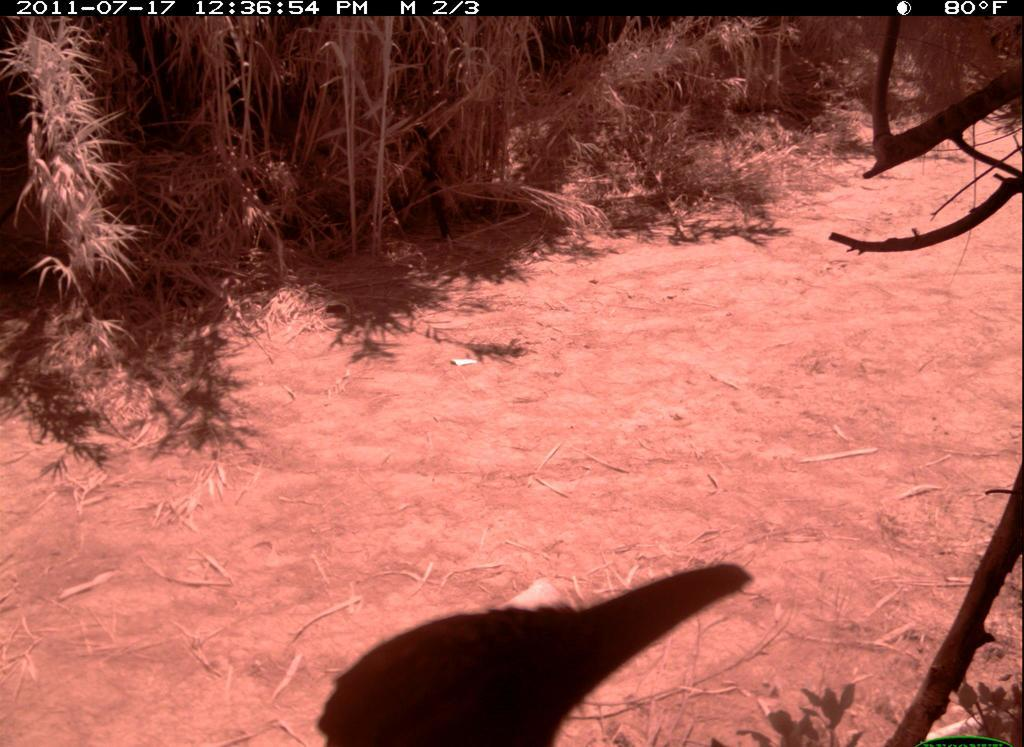bird: (278, 543, 752, 747)
